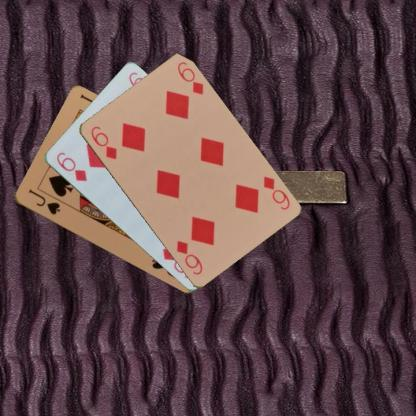6d: (53, 149, 89, 183), (260, 174, 291, 212), (88, 123, 118, 161)
Js: (25, 186, 62, 216)
